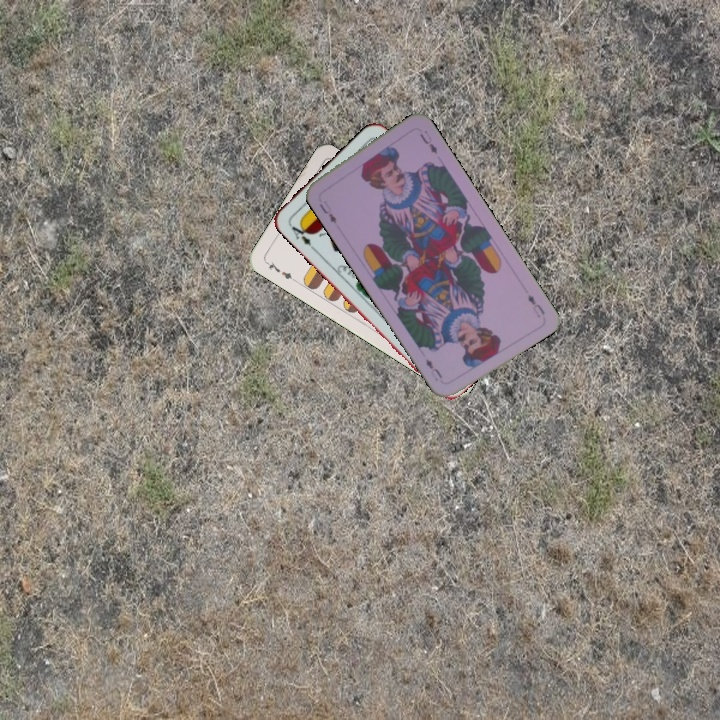E7: (262, 258, 298, 284)
EA: (285, 219, 317, 253)
EU: (315, 197, 339, 226), (524, 291, 548, 318)
